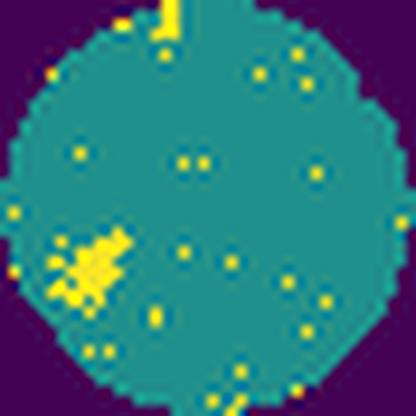Loc: (51, 226, 132, 308)
